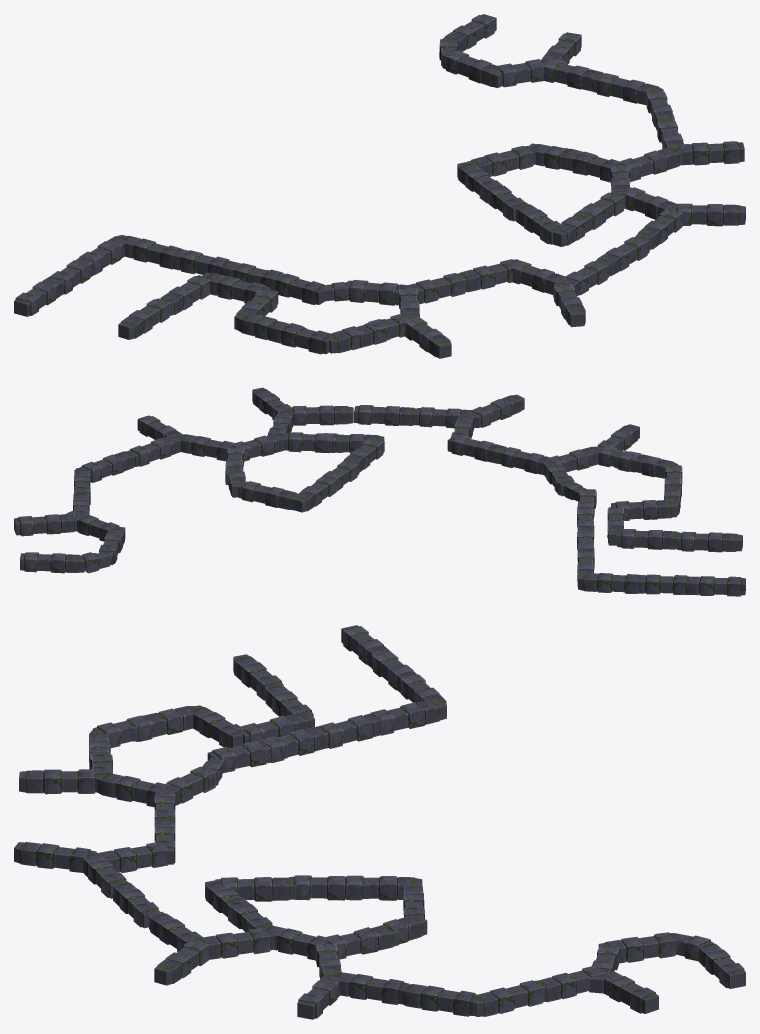
The model's file is GardenRoad.fbx.
3 renders of one model, top to bottom at view 1: azimuth 30°, elevation 25°; view 2: azimuth 150°, elevation 25°; view 3: azimuth 270°, elevation 25°, orthographic. The views are drawn at different scales.
Parts seen in each view (by area): view 1: MOD_WallCover_01_M_straight.009; view 2: MOD_WallCover_01_M_straight.009; view 3: MOD_WallCover_01_M_straight.009.
Boxes of the visible parts, x1=… form: MOD_WallCover_01_M_straight.009: x1=14, y1=14, x2=745, y2=358; MOD_WallCover_01_M_straight.009: x1=14, y1=387, x2=745, y2=596; MOD_WallCover_01_M_straight.009: x1=14, y1=625, x2=745, y2=1019.
Bounding box in the file's own units: 41.86 × 0.8246 × 33.97.
Materials: 1 (1 with a texture image).
